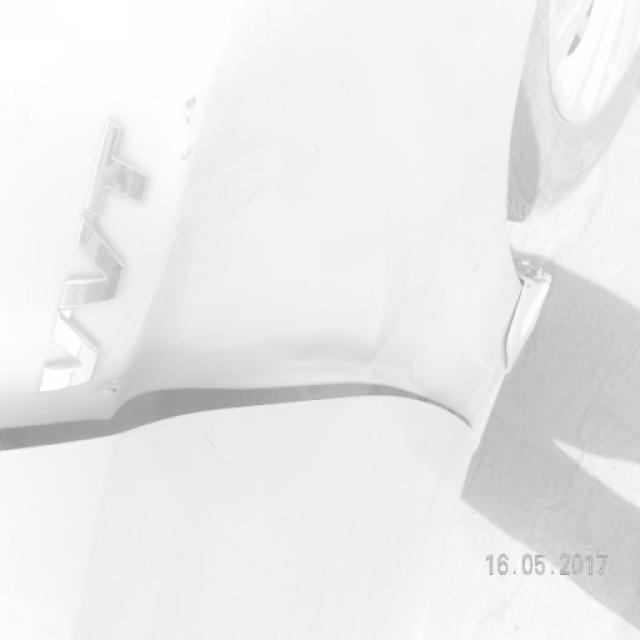car damage: (0, 321, 501, 470)
